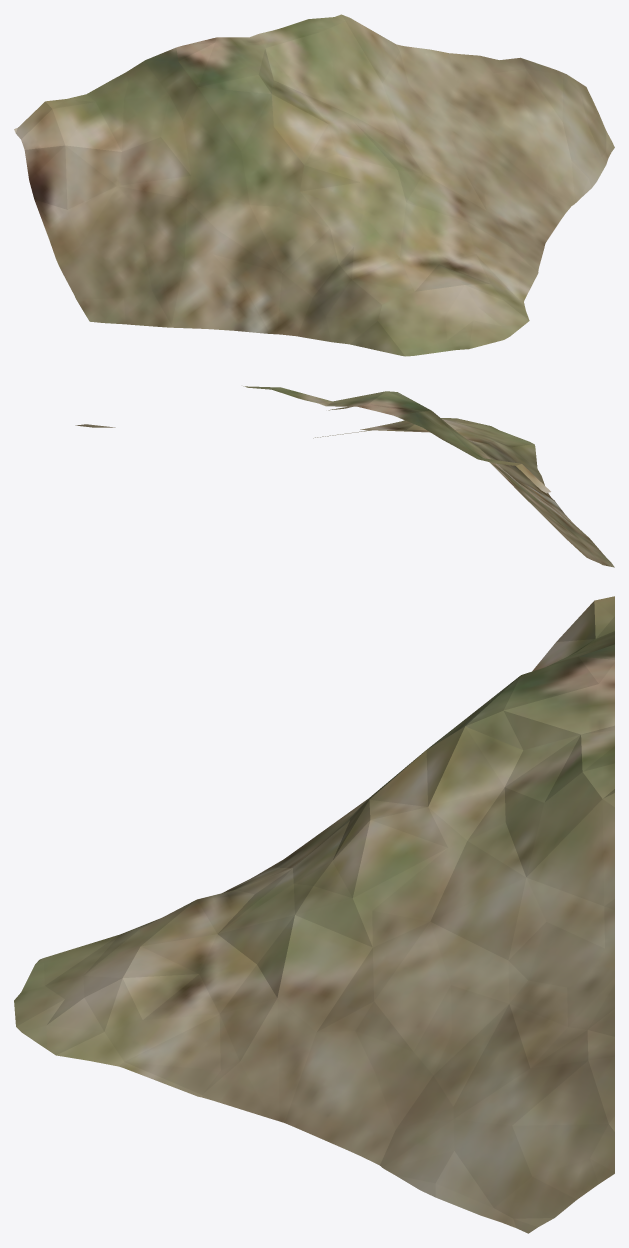
3 renders of one model, top to bottom at view 1: azimuth 30°, elevation 25°; view 2: azimuth 150°, elevation 25°; view 3: azimuth 270°, elevation 25°, orthographic. The views are drawn at different scales.
Bounding box in the file's own units: 52.22 × 15.67 × 31.39.
1 material, 1 textured.
